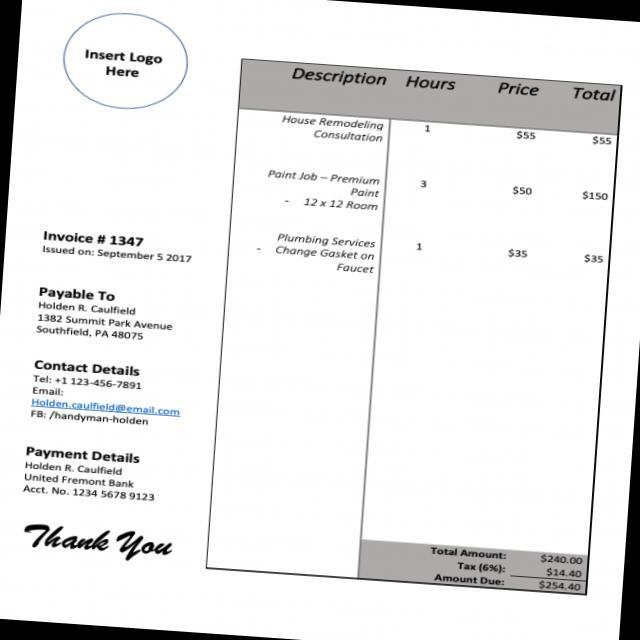invoice_date: (94, 248, 196, 264)
invoice_number: (106, 228, 150, 250)
invoice_subtotal: (537, 548, 588, 566)
invoice_total: (534, 579, 584, 595)
item_description: (253, 110, 385, 280)
item_quantity: (401, 120, 445, 263)
item_total_price: (578, 122, 616, 278)
item_unit_price: (504, 120, 540, 272)
supplier_address: (34, 312, 175, 344)
supplier_name: (38, 301, 144, 317)
tax_amount: (541, 565, 585, 578)
